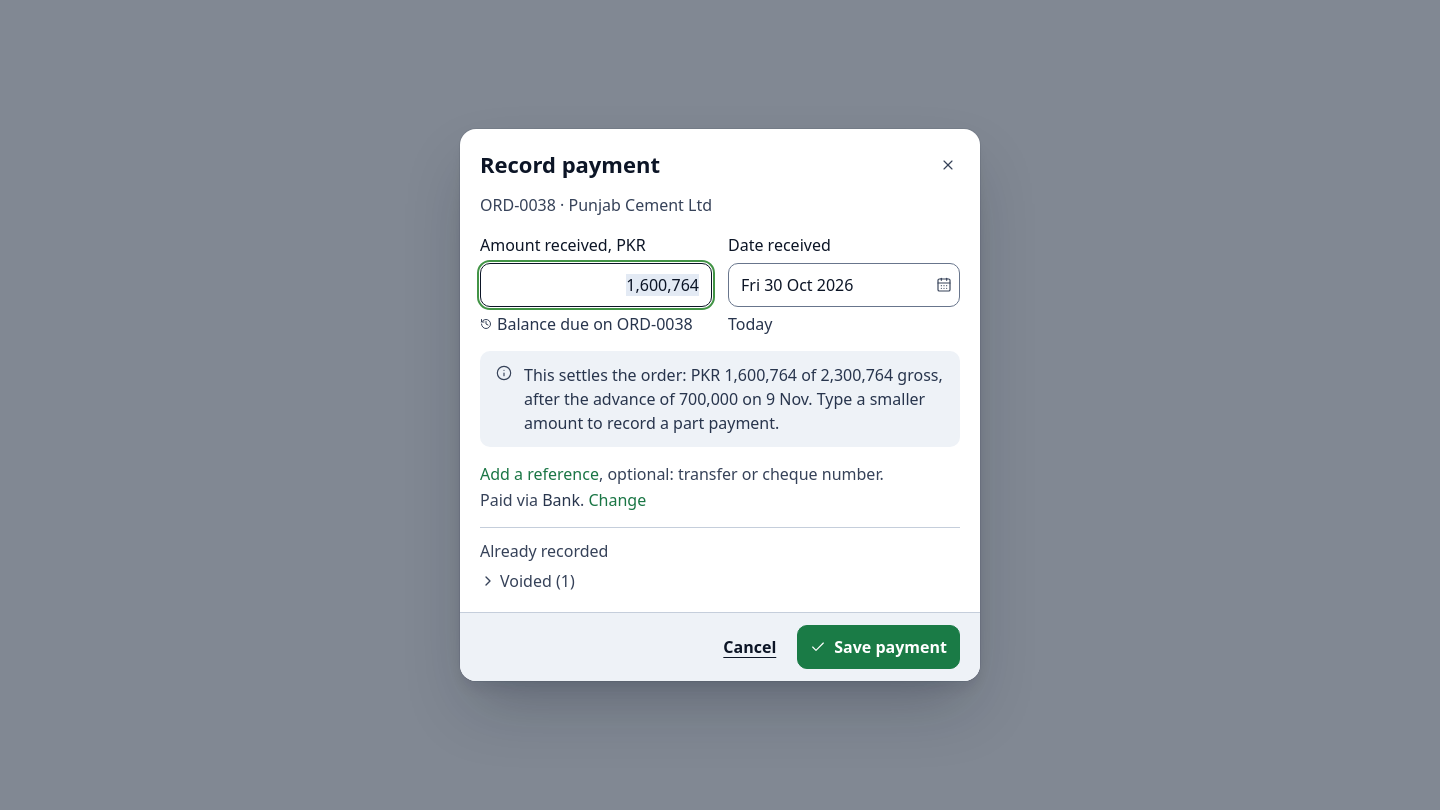
Test case: Record payment (M02) › a closed month shows the sentence under the date and keeps the amount
The width and height of the screenshot is (1440, 810).
Expected: the field labelled "Amount received, PKR" is shown, [480, 263, 712, 307]
Click the button "Save payment".
click(879, 647)  # box [797, 625, 960, 669]
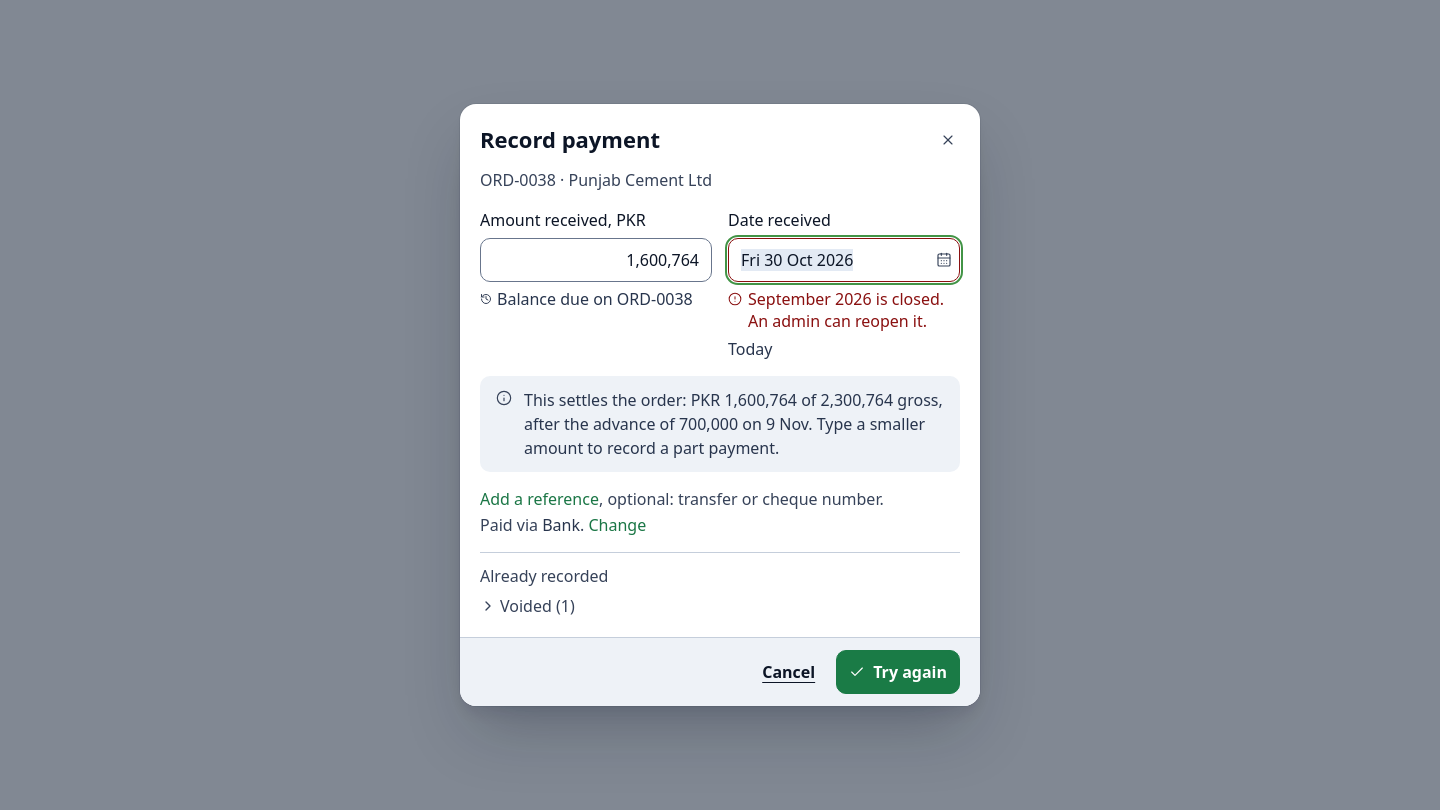
Expected: the field labelled "Amount received, PKR" holds "1,600,764", [480, 238, 712, 282]
Expected: the text "September 2026 is closed. An admin can reopen it." is shown, [748, 288, 960, 332]
